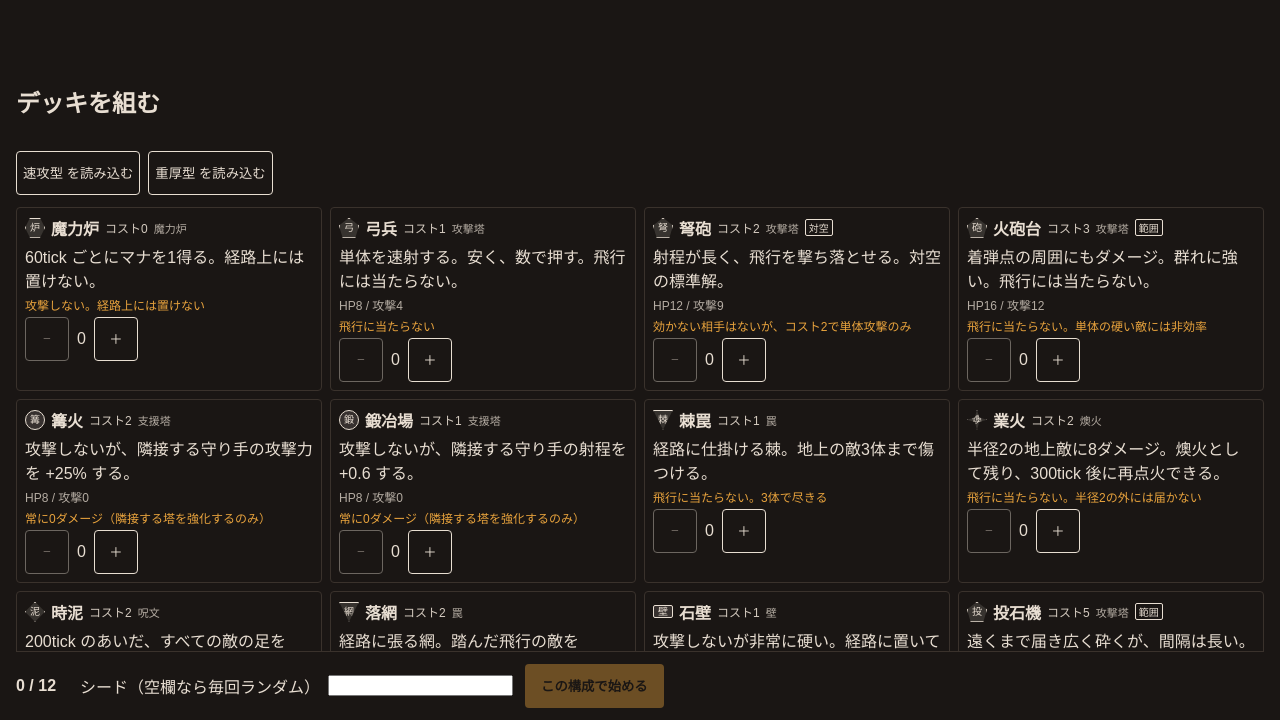
Test: DeckBuilder › 同名の上限に達すると増やすボタンが無効になる
This screenshot has width=1280, height=720.
Click the button named "弓兵 を1枚増やす" at coordinates (430, 360), box [408,338,452,382]
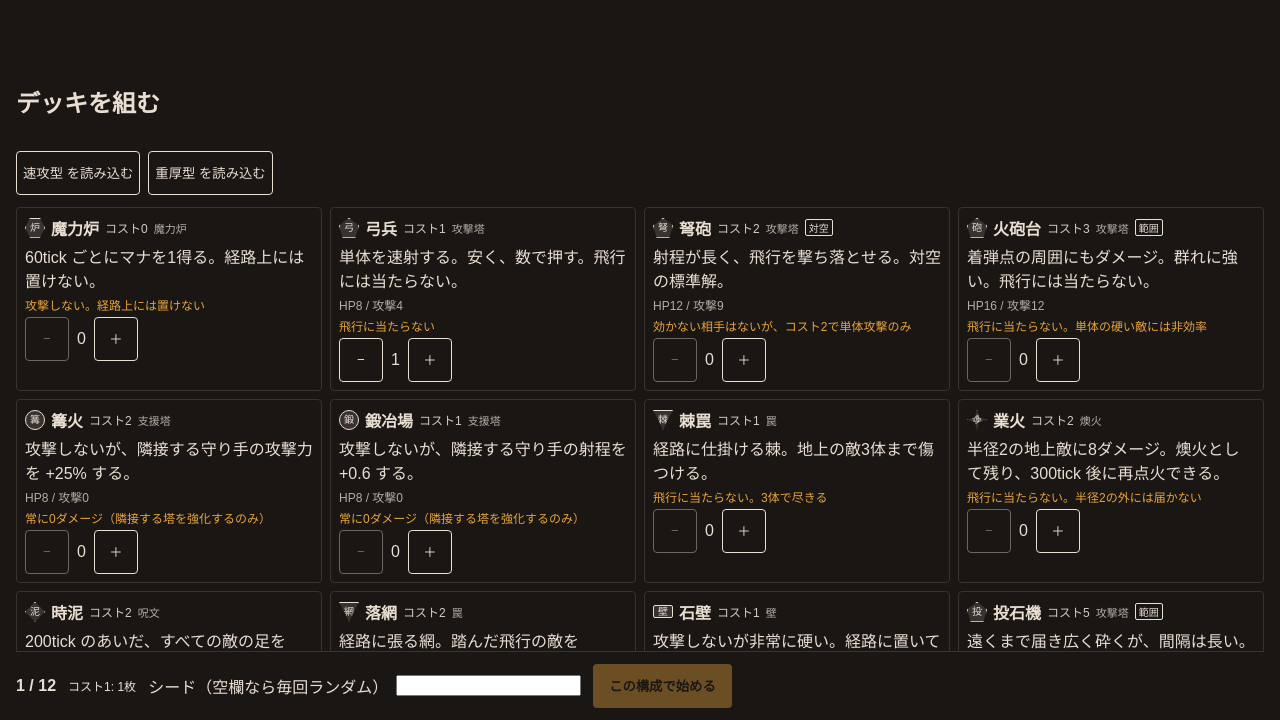
Click the button named "弓兵 を1枚増やす" at coordinates (430, 360), box [408,338,452,382]
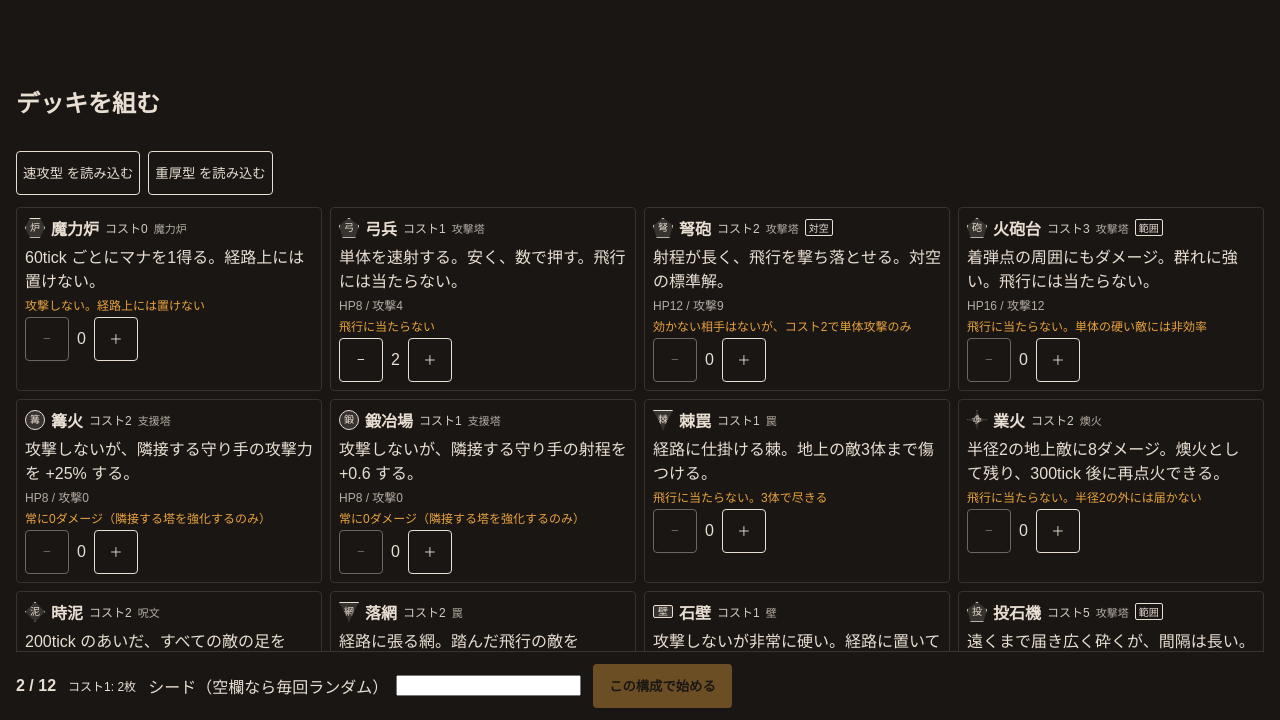
Click the button named "弓兵 を1枚増やす" at coordinates (430, 360), box [408,338,452,382]
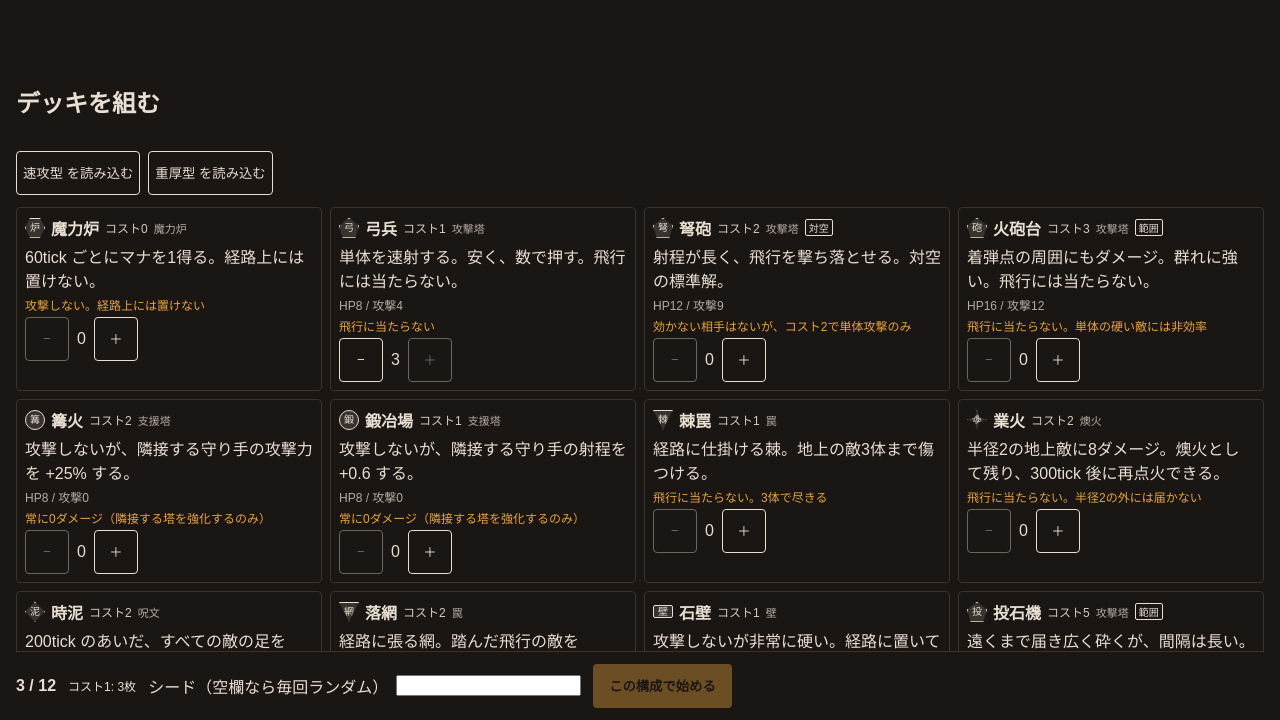
Check: the button named "弓兵 を1枚増やす" is disabled, box [408,338,452,382]
